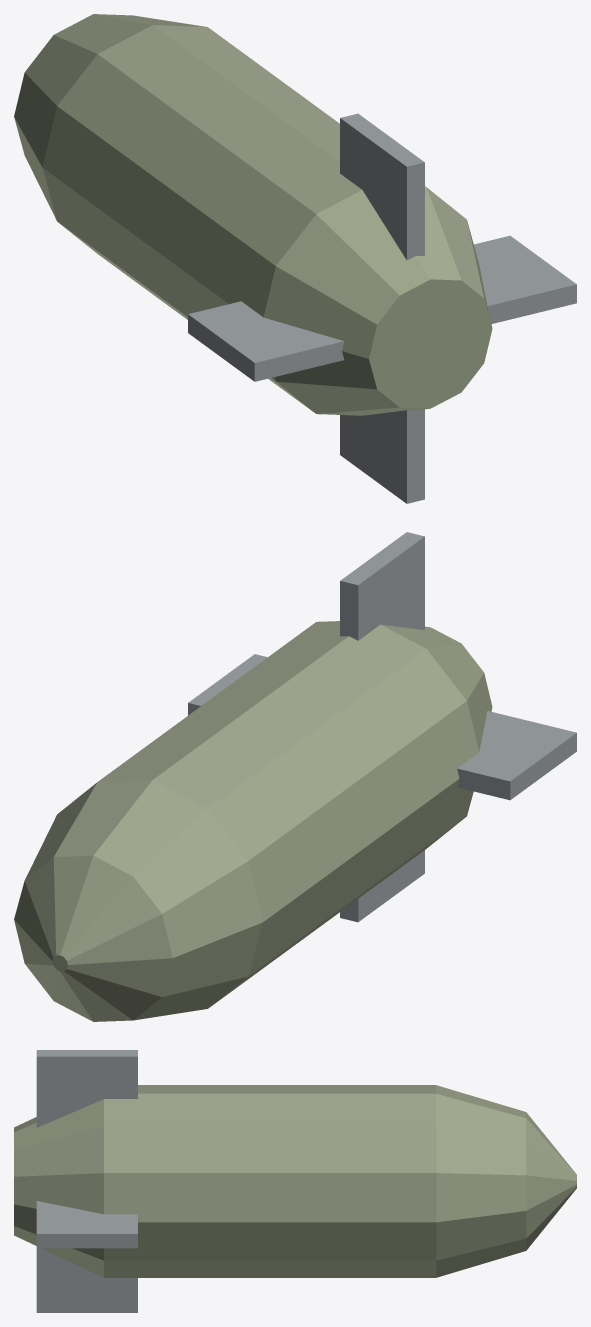
File: BOMB_Ww2.fbx
The picture shows the model from 3 angles, top to bottom: view 1: azimuth 30°, elevation 25°; view 2: azimuth 150°, elevation 25°; view 3: azimuth 270°, elevation 25°; orthographic projection. The views are drawn at different scales.
Parts seen in each view (by area): view 1: OrdnanceBody, TailFin.003, TailFin, TailFin.001, TailFin.002; view 2: OrdnanceBody, TailFin.003, TailFin, TailFin.001, TailFin.002; view 3: OrdnanceBody, TailFin.003, TailFin.001, TailFin.002.
Part boxes in pixels (x1,y1,x2,y2): OrdnanceBody: [14, 14, 492, 415]; TailFin.003: [340, 113, 424, 260]; TailFin: [188, 301, 344, 381]; TailFin.001: [340, 409, 424, 503]; TailFin.002: [474, 235, 576, 323]; OrdnanceBody: [14, 621, 492, 1021]; TailFin.003: [340, 532, 424, 640]; TailFin: [457, 711, 576, 800]; TailFin.001: [340, 850, 424, 922]; TailFin.002: [188, 654, 267, 715]; OrdnanceBody: [14, 1085, 576, 1277]; TailFin.003: [36, 1050, 137, 1127]; TailFin.001: [36, 1248, 137, 1312]; TailFin.002: [36, 1201, 137, 1248].
Bounding box in the file's own units: 32.12 × 32.12 × 64.
